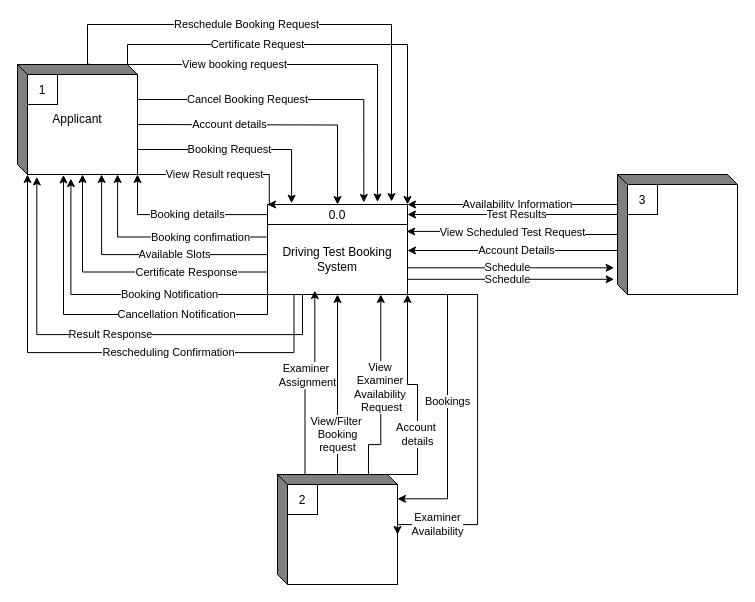
The diagram is 755 pixels wide and 602 high, and some of its shapes have lost their labels. The shapes that lost their labels are listed below. From the top down, each one's centre as x and y in pixels, then its label:
At point 677,234: "Examiner".
At point 337,529: "Administrator".
